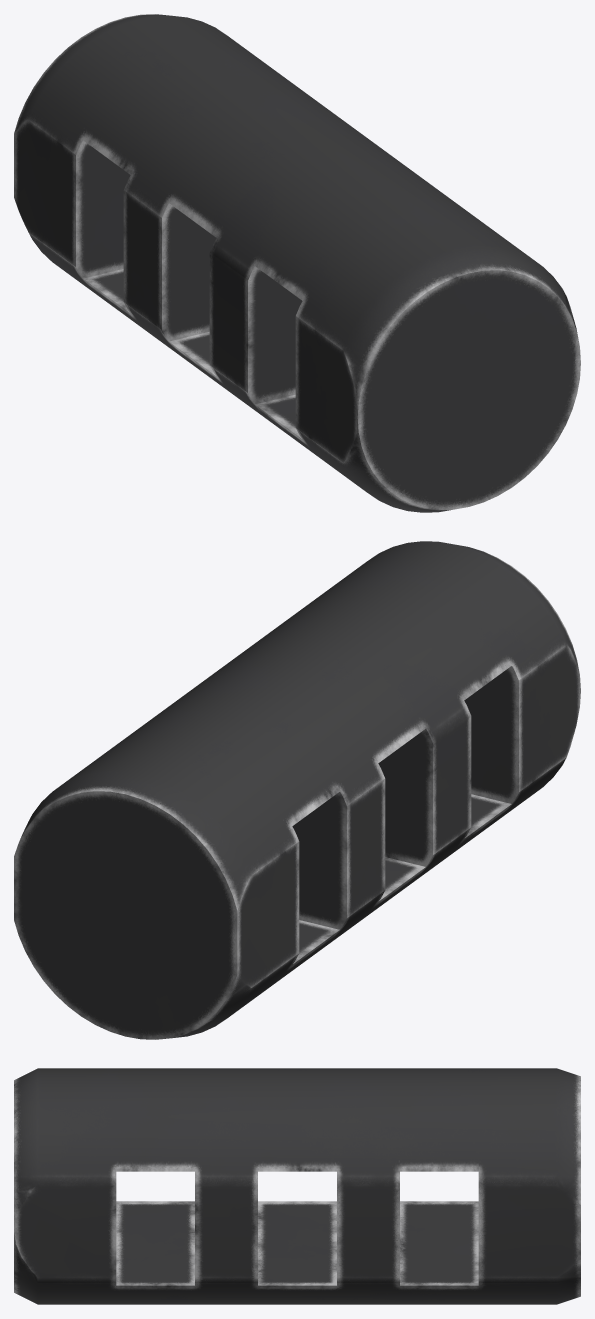
Rendered from brake.glb.
The picture shows the model from 3 angles, top to bottom: view 1: azimuth 30°, elevation 25°; view 2: azimuth 150°, elevation 25°; view 3: azimuth 270°, elevation 25°; orthographic projection. The views are drawn at different scales.
Visible parts, largest first — view 1: body; view 2: body; view 3: body.
Boxes of the visible parts, x1=… form: body: x1=14, y1=14, x2=580, y2=512; body: x1=14, y1=541, x2=580, y2=1039; body: x1=14, y1=1068, x2=580, y2=1304.
Size of the model in its own units: 0.027 by 0.03 by 0.072.
Materials: 1 (1 with a texture image).
